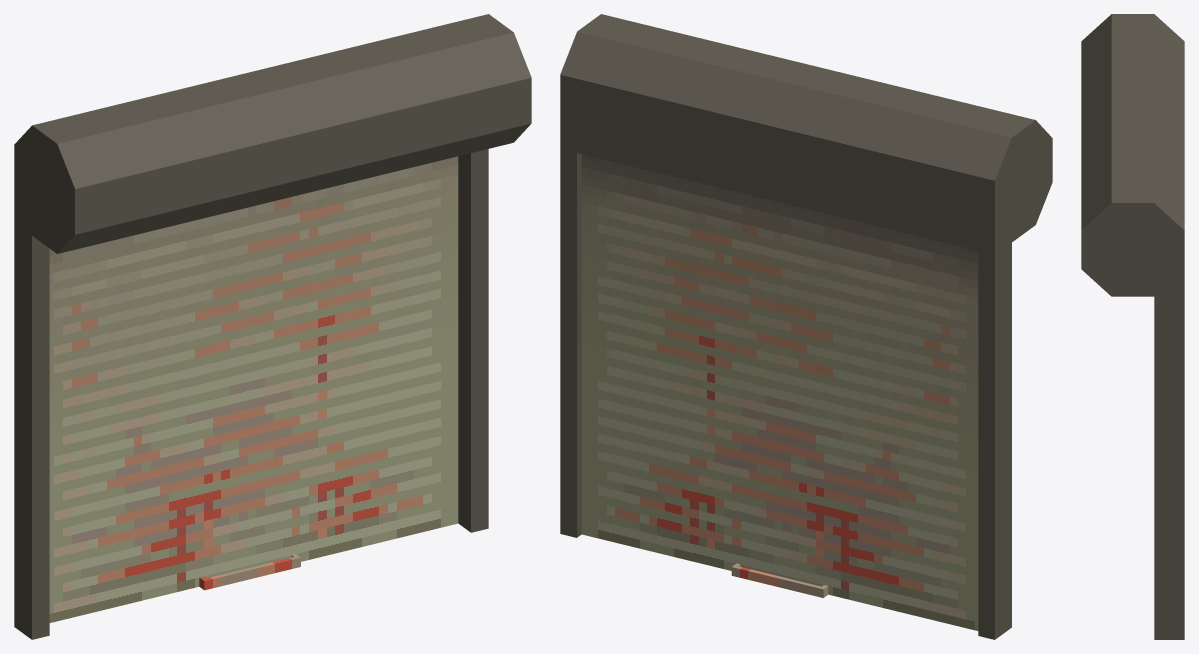
Rendered from RollingDoor.gltf.
3 views of the same model, side by side, from view 1: azimuth 30°, elevation 25°; view 2: azimuth 150°, elevation 25°; view 3: azimuth 270°, elevation 25° (orthographic). The views are drawn at different scales.
Parts seen in each view (by area): view 1: Door, Roll, DoorHandle; view 2: Door, Roll, DoorHandle; view 3: Roll.
Boxes of the visible parts, bbox=[...] form: Door: bbox=[49, 156, 458, 622]; Roll: bbox=[14, 14, 531, 639]; DoorHandle: bbox=[199, 554, 300, 590]; Door: bbox=[581, 154, 978, 630]; Roll: bbox=[560, 14, 1052, 639]; DoorHandle: bbox=[731, 563, 828, 597]; Roll: bbox=[1081, 14, 1184, 639].
Size of the model in its own units: 3.25 by 3.5 by 0.75.
Materials: 1 (1 with a texture image).
